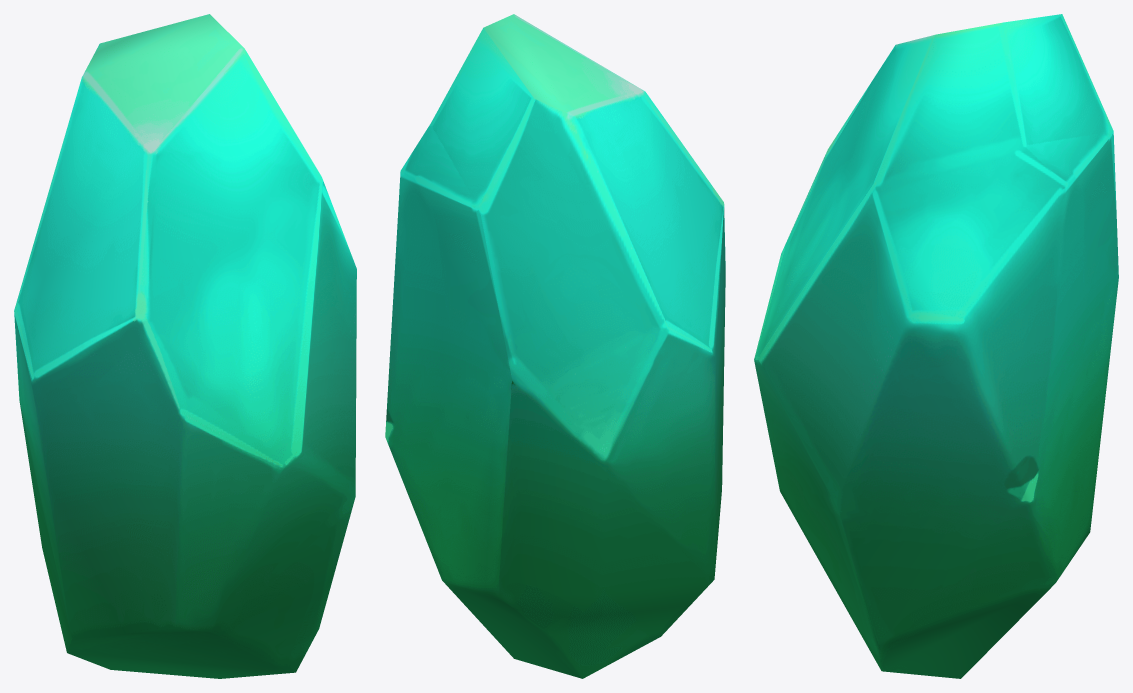
The model's file is Crystal.glb.
3 views of the same model, side by side, from view 1: azimuth 30°, elevation 25°; view 2: azimuth 150°, elevation 25°; view 3: azimuth 270°, elevation 25° (orthographic). The views are drawn at different scales.
Parts seen in each view (by area): view 1: Mesh_0; view 2: Mesh_0; view 3: Mesh_0.
Boxes of the visible parts, x1,y1,x2,y2 form: Mesh_0: [14, 14, 356, 678]; Mesh_0: [385, 14, 725, 678]; Mesh_0: [754, 14, 1118, 678].
Size of the model in its own units: 1.61 by 3.22 by 1.61.
Materials: 1 (1 with a texture image).
